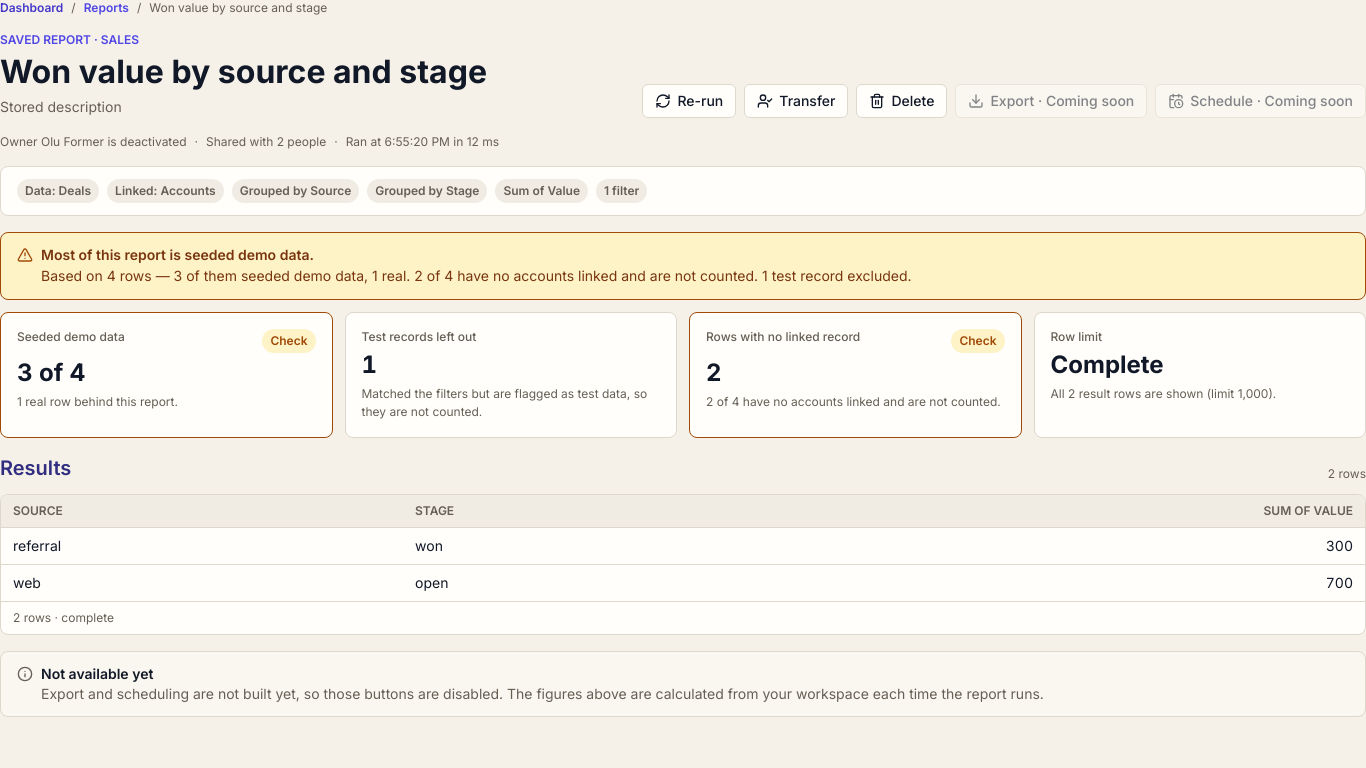
it: admin transfer of an ownerless report › a refusal keeps the dialog open with the reason, and nothing claims success
Click the button "Transfer" at (796, 101), box x1=744 y1=84 x2=848 y2=118
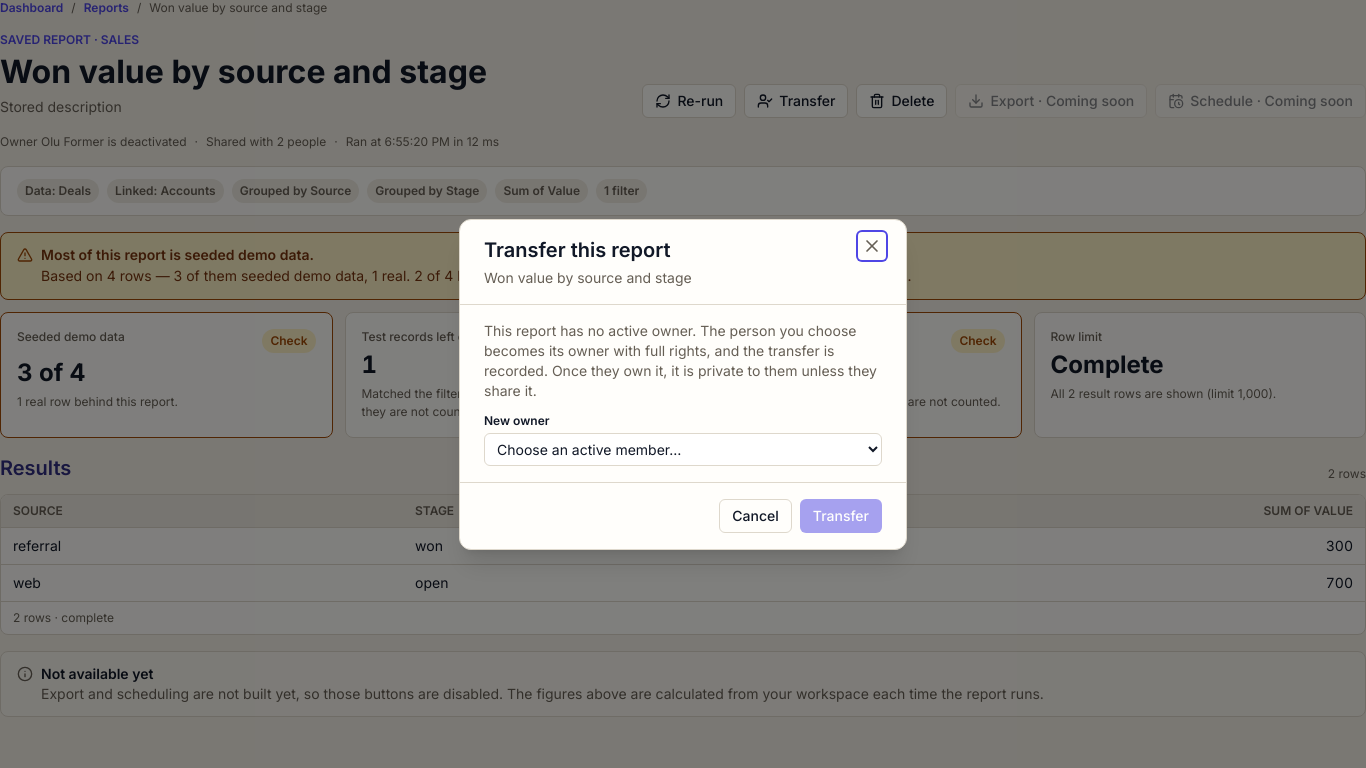
Select "Bo New · bo@x.test" in the dropdown at (683, 449), box x1=484 y1=432 x2=882 y2=466
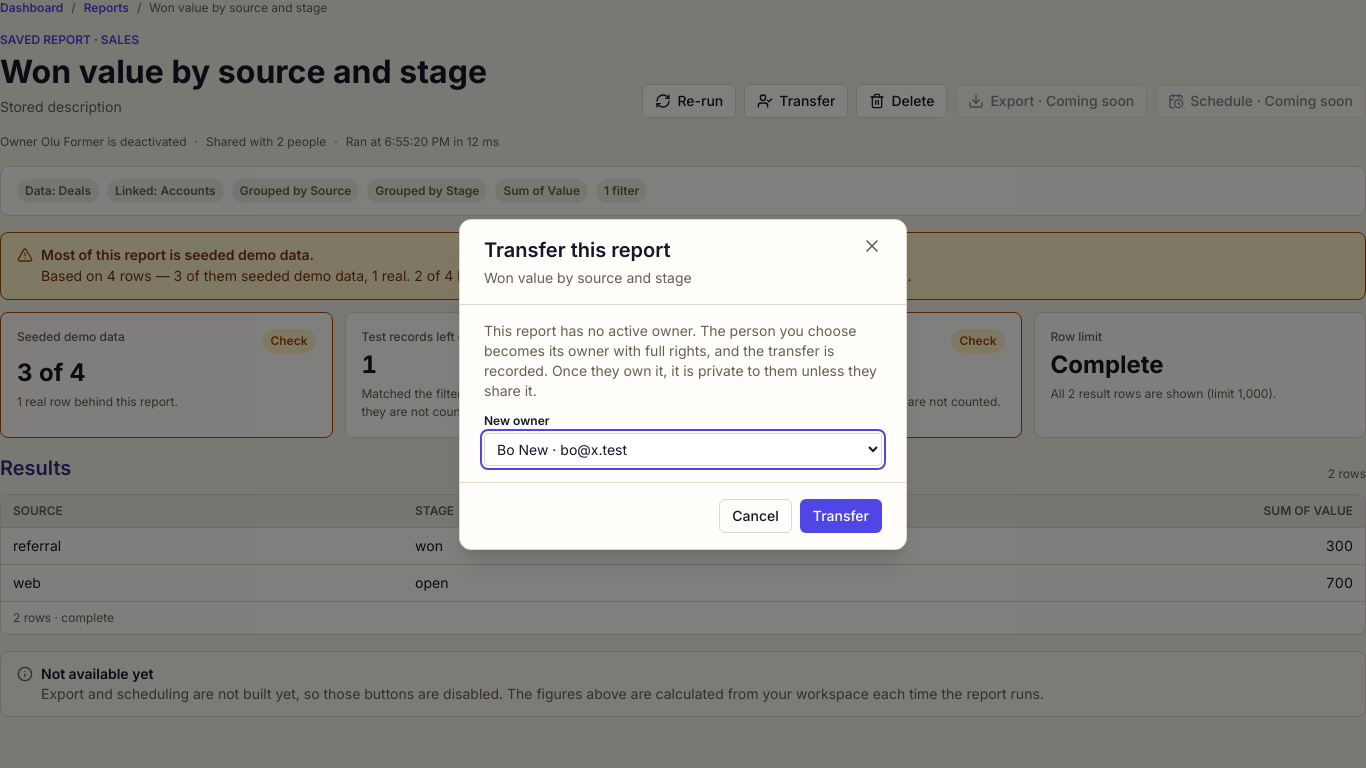
Click the button "Transfer" at (841, 516), box x1=800 y1=498 x2=882 y2=532
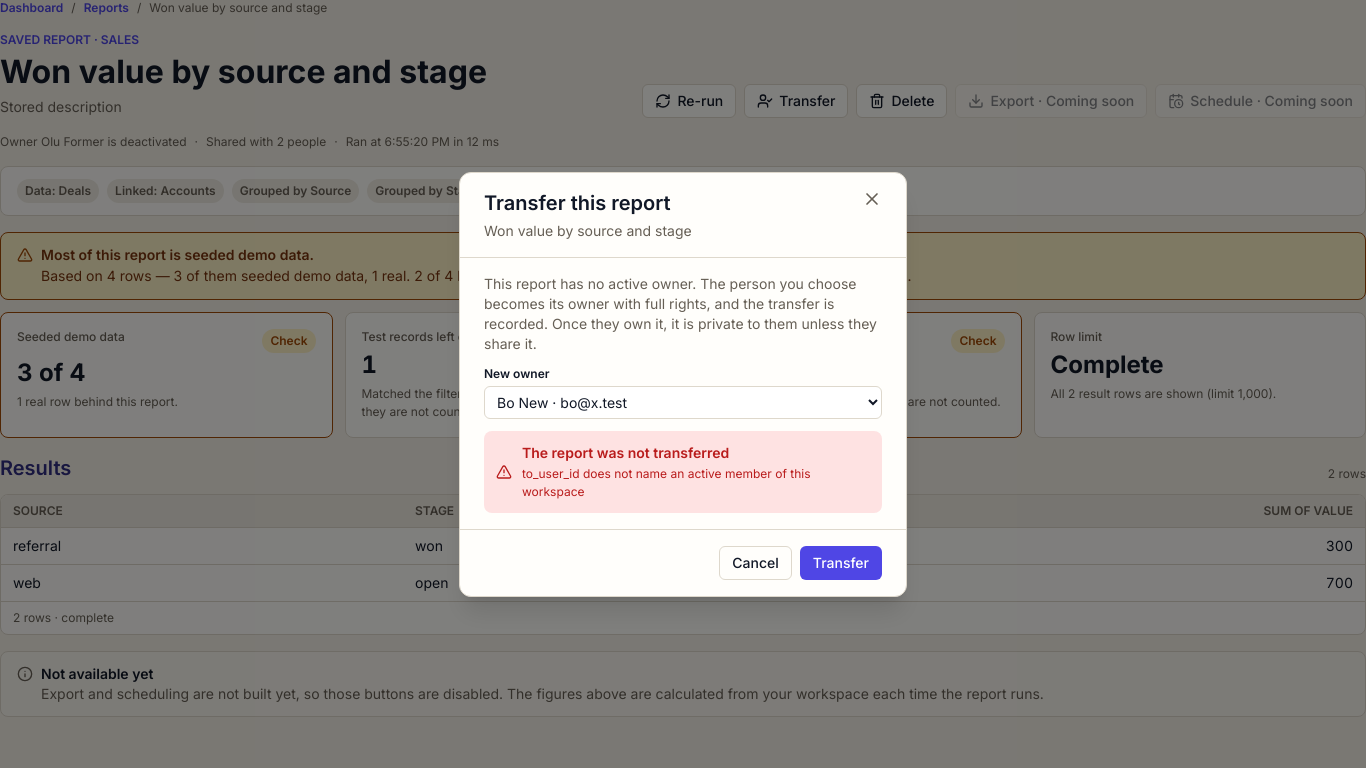
Now the text "The report was not transferred" is shown, box x1=522 y1=444 x2=729 y2=460
Now the dialog shows "does not name an active member", box x1=522 y1=466 x2=810 y2=498
